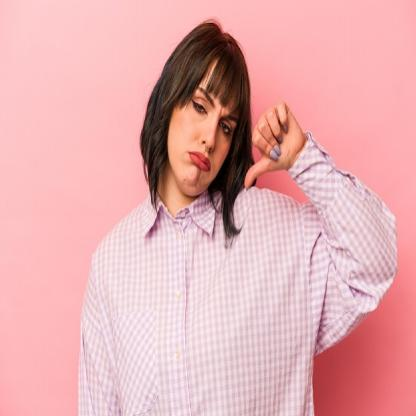thumb_down: (240, 96, 307, 192)
